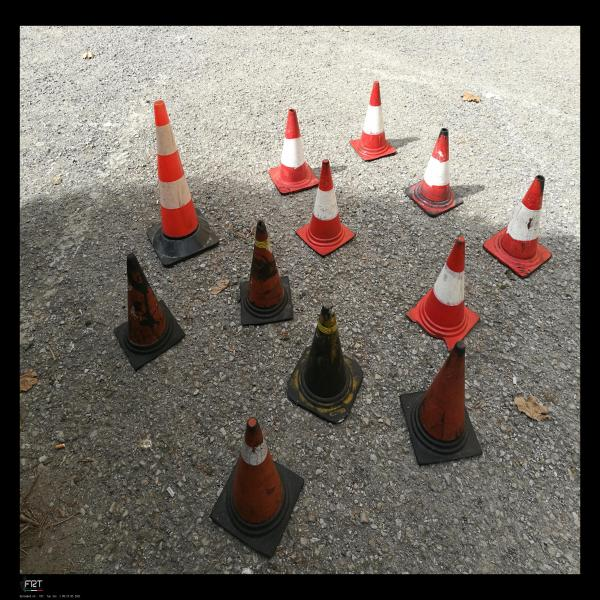large_orange_cone: (146, 100, 220, 267)
orange_cone: (406, 236, 481, 352), (483, 175, 552, 279), (295, 159, 356, 256), (405, 128, 463, 217), (268, 109, 319, 195), (349, 81, 397, 161)
unknown_cone: (210, 417, 305, 557), (399, 341, 483, 465), (287, 299, 363, 424), (114, 253, 186, 370), (240, 221, 293, 325)
